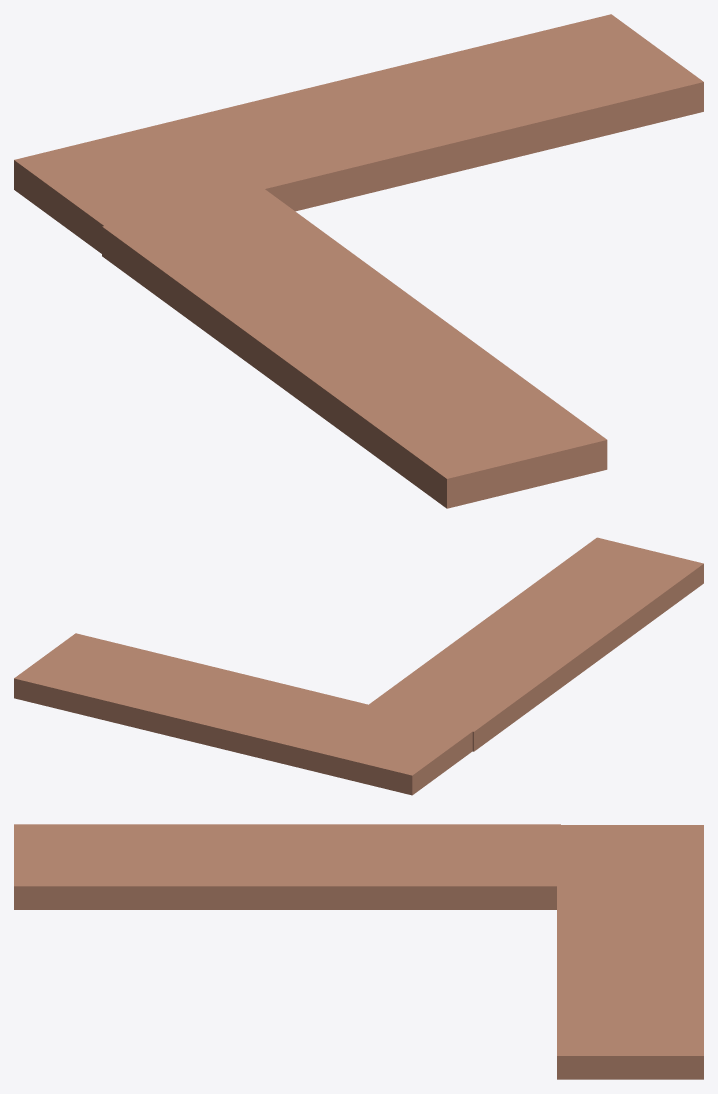
File: EtagereCoin.fbx
The picture shows the model from 3 angles, top to bottom: view 1: azimuth 30°, elevation 25°; view 2: azimuth 150°, elevation 25°; view 3: azimuth 270°, elevation 25°; orthographic projection. The views are drawn at different scales.
Visible parts, largest first — view 1: Cube.054; view 2: Cube.054; view 3: Cube.054.
Part boxes in pixels (x1,y1,x2,y2): Cube.054: (14, 14, 703, 508); Cube.054: (14, 537, 703, 795); Cube.054: (14, 824, 703, 1079).
Bounding box in the file's own units: 251 × 11.95 × 316.
